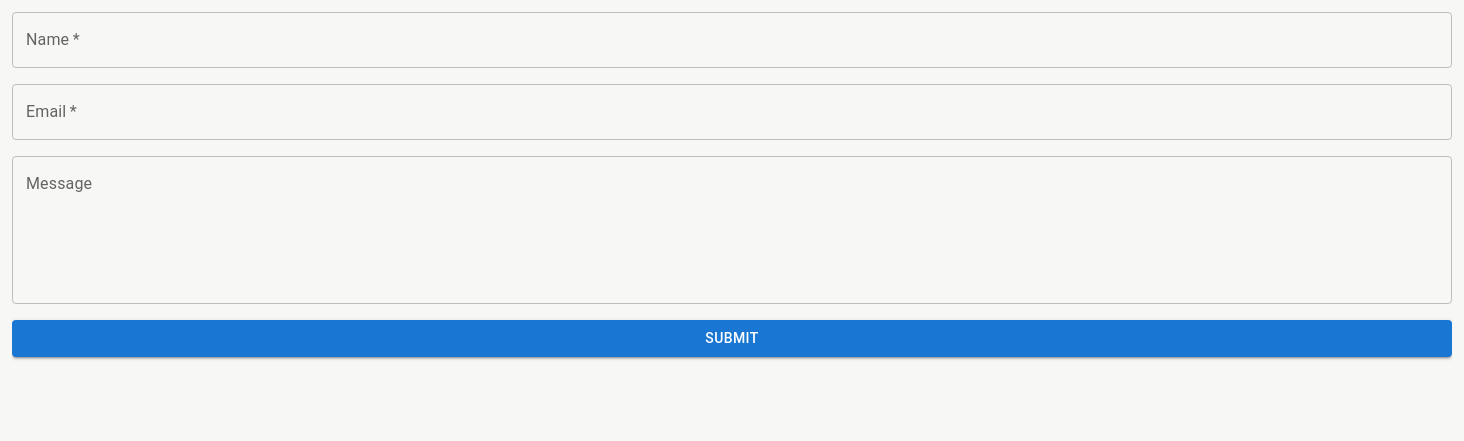
Scenario: ContactForm › shows an error alert when the request fails
Type "Ada Lovelace" into the field labelled "Name *" at point(732, 40), box [12,12,1452,68]
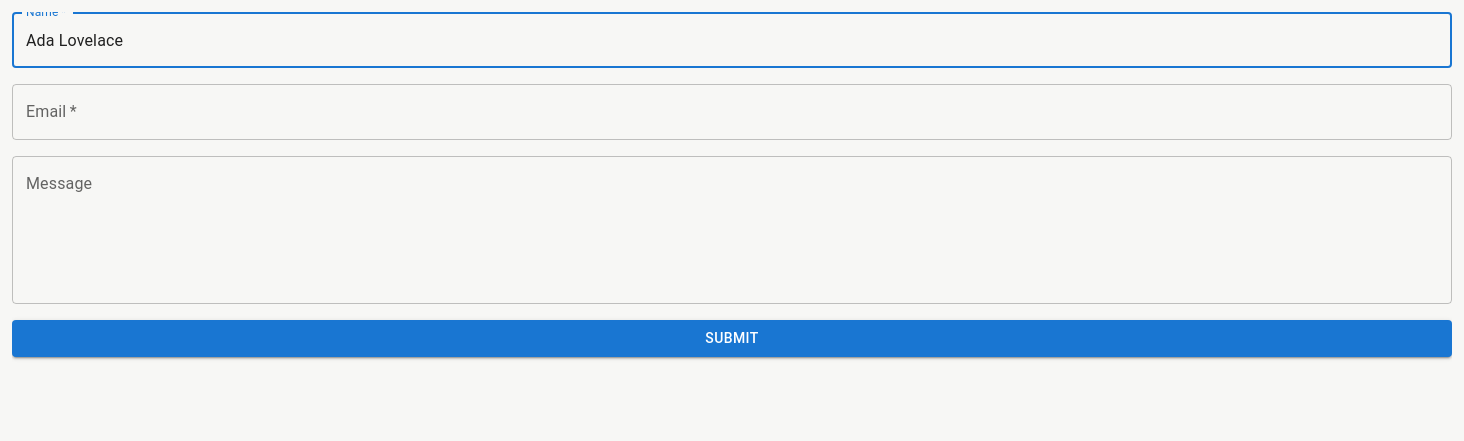
Type "ada@example.com" into the field labelled "Email *" at point(732, 112), box [12,84,1452,140]
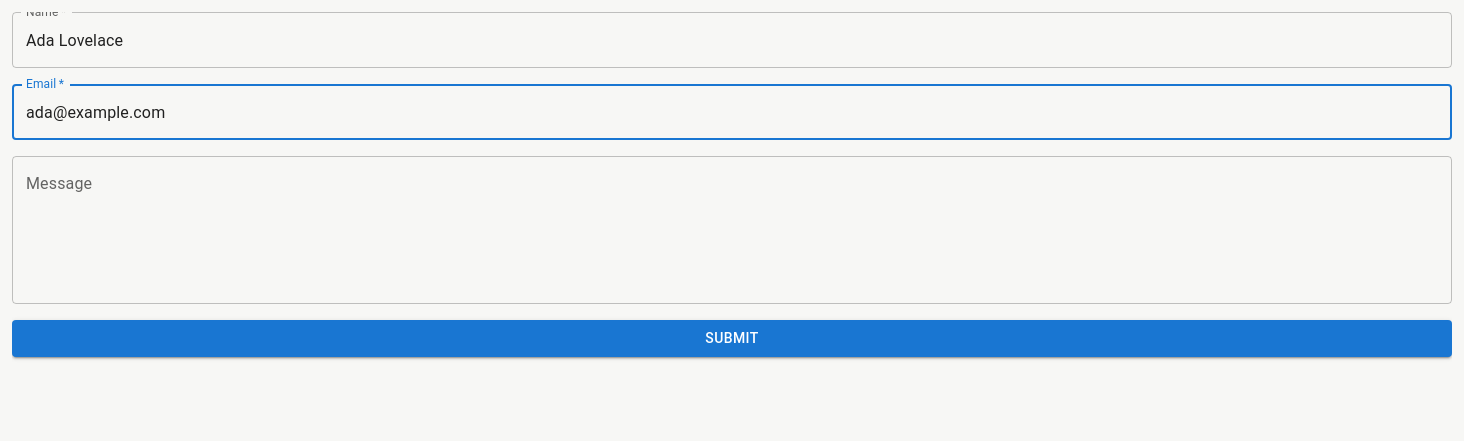
Click the button "Submit" at point(732, 338), box [12,320,1452,356]
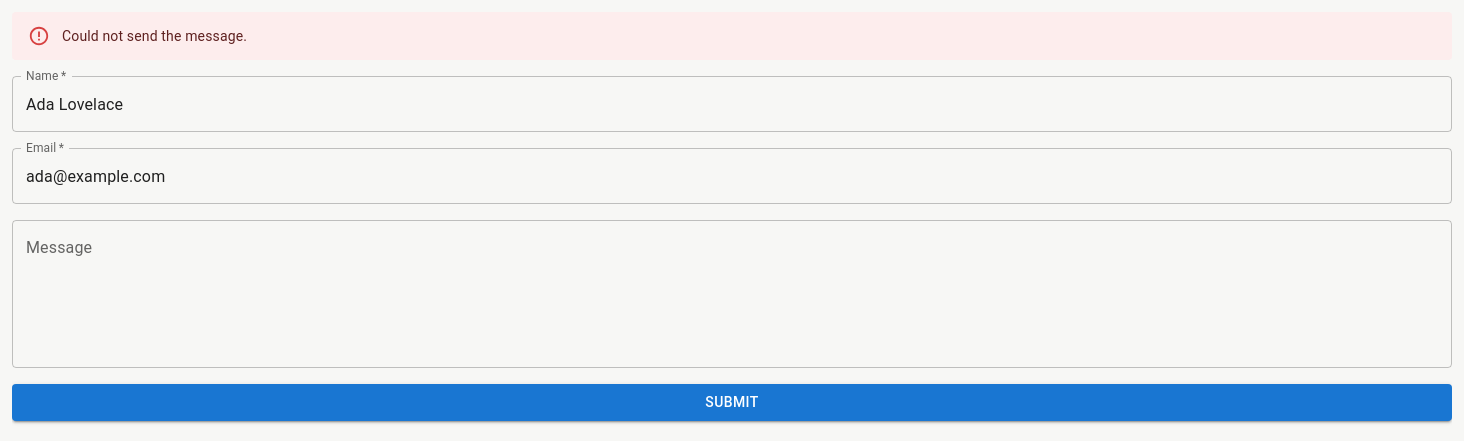
Check: the text "Could not send the message." is shown, box [62,28,247,44]
